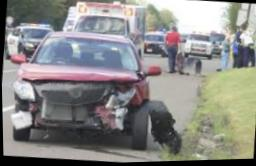Bumper: (5, 94, 143, 152)
Light: (103, 84, 141, 112)
